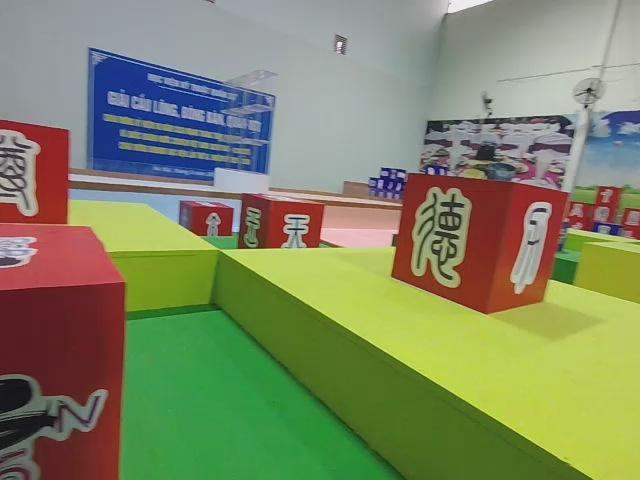R1: (0, 222, 124, 480)
R2 Fake: (391, 171, 571, 316), (0, 120, 70, 239)
R2 Real: (239, 192, 325, 264), (179, 199, 234, 238)
